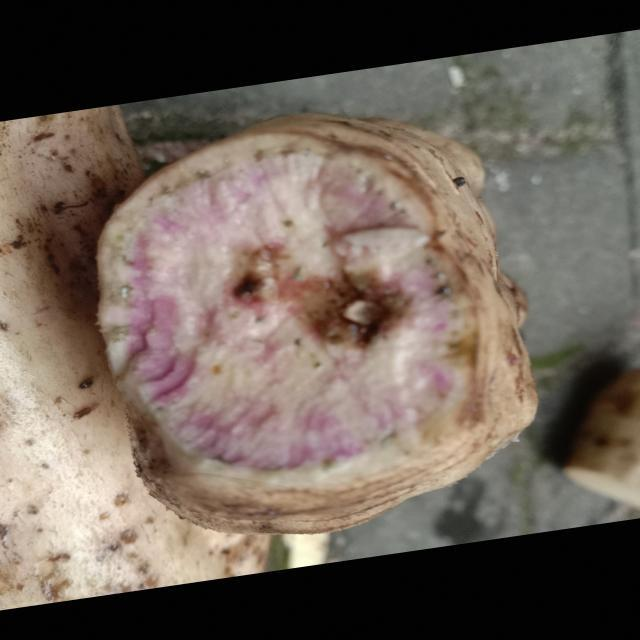Sick Sweet Potato_Tuber Rot: (102, 151, 458, 470)
